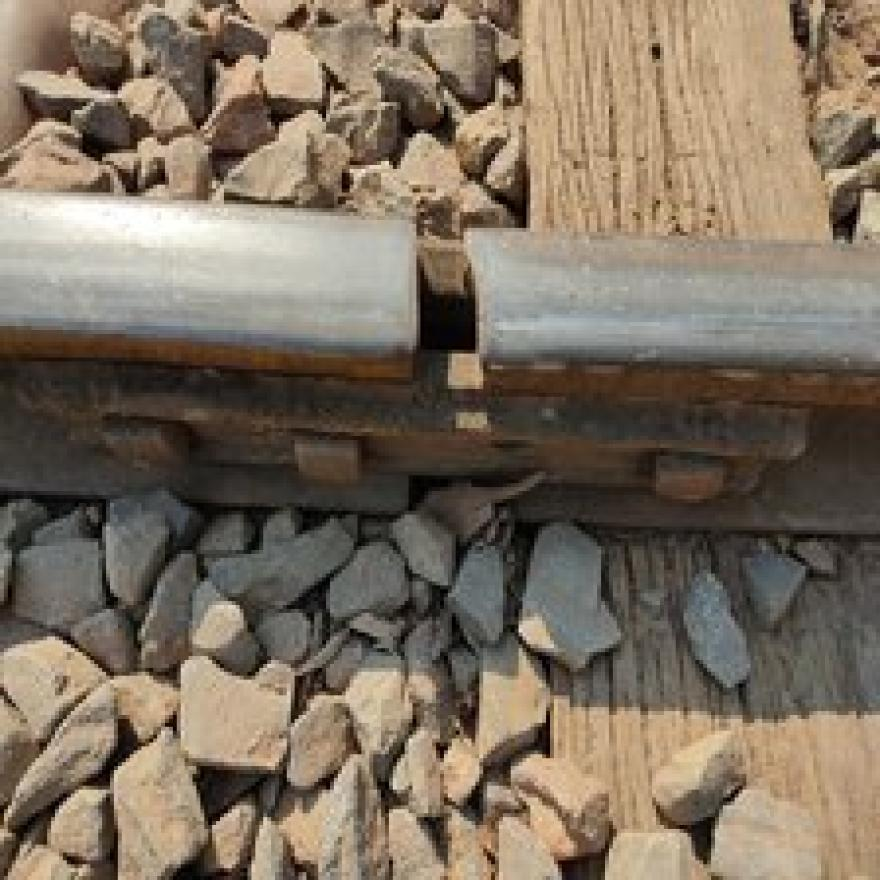railway-gap: (312, 186, 570, 423)
